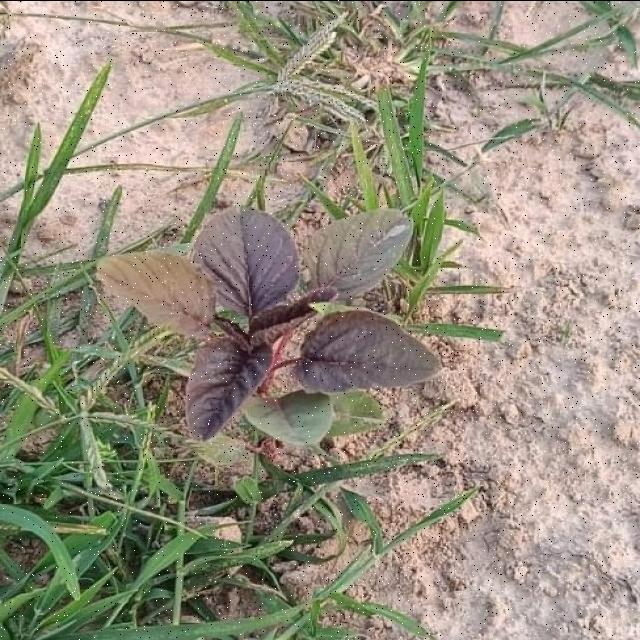plant: (98, 208, 438, 444)
